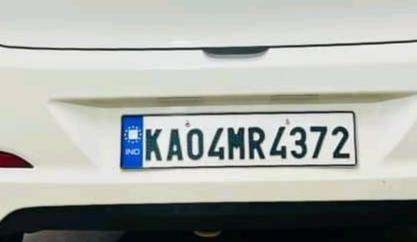0: (185, 126, 206, 163)
2: (331, 125, 354, 162)
3: (290, 123, 309, 162)
4: (268, 122, 289, 162), (206, 124, 226, 161)
7: (309, 121, 328, 161)
A: (165, 125, 186, 164)
K: (144, 126, 164, 164)
M: (224, 123, 248, 162)
R: (246, 123, 267, 162)
